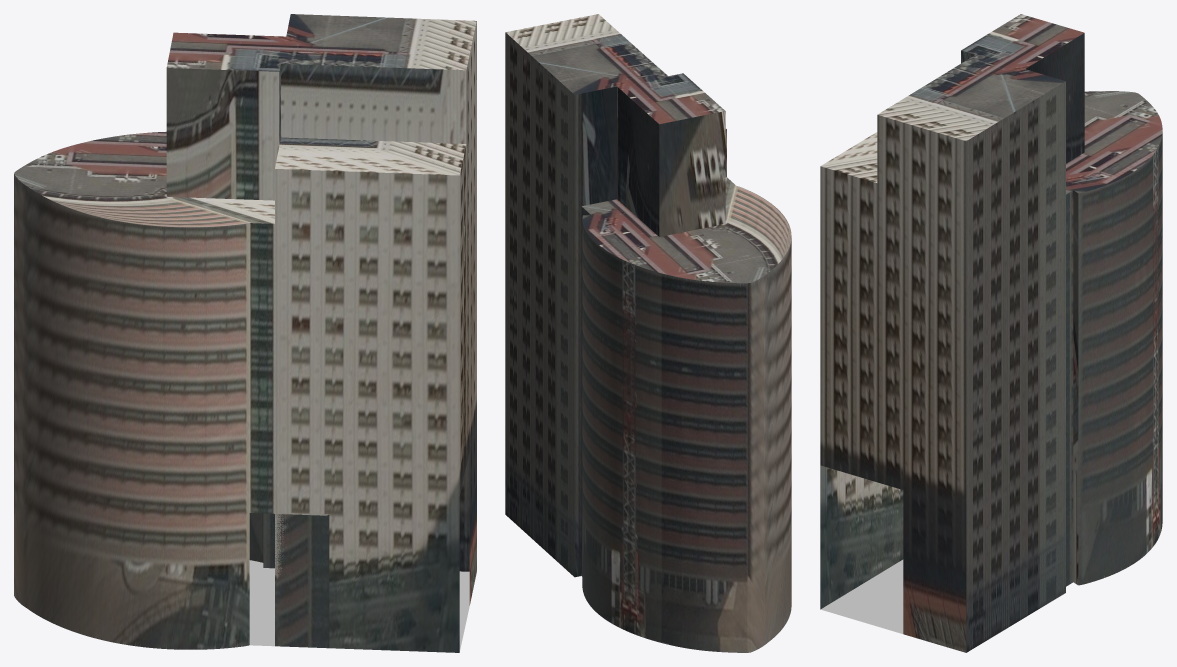
Rendered from {E773B9A4-D3BE-46B4-BEF3-04F4D190F358}.dae.
3 views of the same model, side by side, from view 1: azimuth 30°, elevation 25°; view 2: azimuth 150°, elevation 25°; view 3: azimuth 270°, elevation 25° (orthographic). The views are drawn at different scales.
Bounding box in the file's own units: 45.39 × 38.64 × 63.77.
15 materials, 14 textured.
